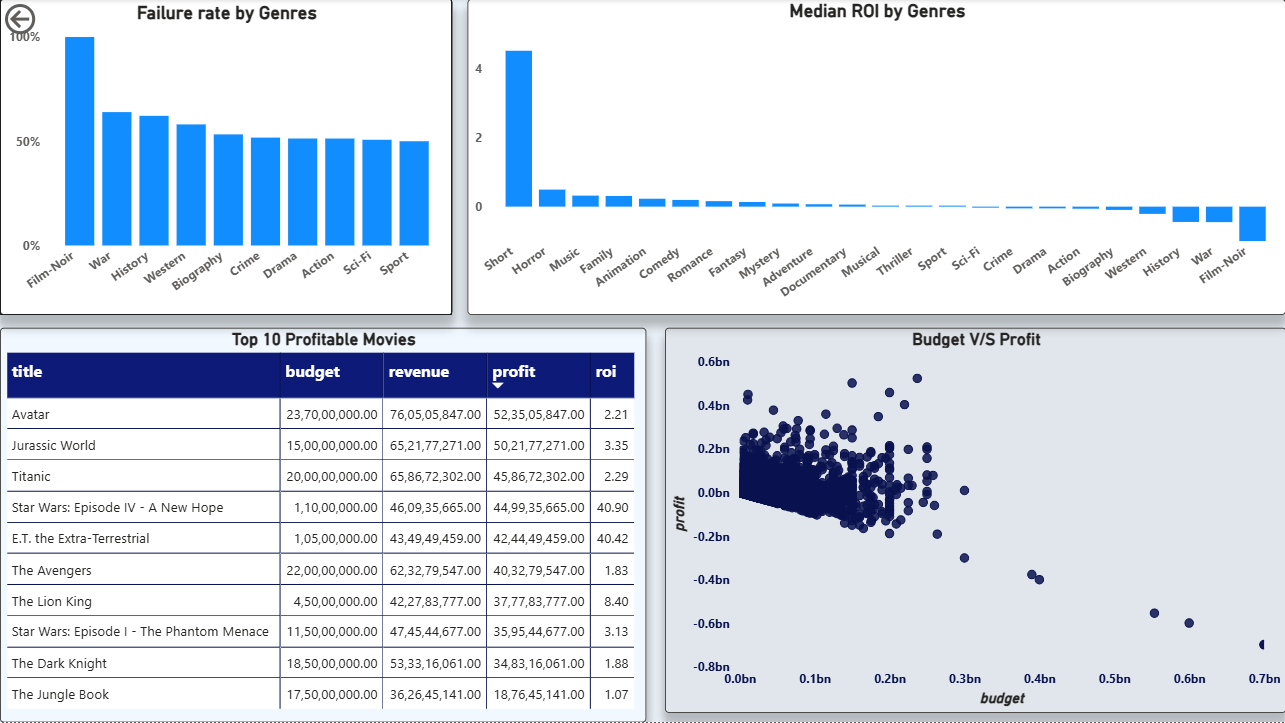

The page's visual inventory and layout, read from the dashboard file:
{"tool":"powerbi","page":{"name":"profitability analysis","canvas":[1280,720],"ordinal":1},"visuals":[{"type":"columnChart","title":"Failure rate by Genres","fields":{"Category":["genres.genre"],"Y":["movies.failure_rate"]},"box":[0,0,450,314.3],"z":1000},{"type":"columnChart","title":"Median ROI by Genres","fields":{"Category":["genres.genre"],"Y":["Median(movies.roi)"]},"box":[465.7,0,814.3,314.3],"z":2000},{"type":"scatterChart","title":"Budget V/S  Profit","fields":{"X":["movies.budget"],"Y":["movies.profit"]},"box":[661.4,327.1,618.6,382.9],"z":3000},{"type":"tableEx","title":"Top 10 Profitable Movies","fields":{"Values":["movies.title","movies.budget","movies.revenue","movies.profit","movies.roi"]},"box":[0,327.1,642.9,392.9],"z":4000},{"type":"actionButton","box":[0,0,100,40],"z":5000}]}

Visuals, with their boxes in screenshot pixels (x1, y1, x2, y2), scaled from the page's 1280x720 canvas onto the 1285x723 screenshot:
"Failure rate by Genres" columnChart: BBox(0, 0, 452, 316)
"Median ROI by Genres" columnChart: BBox(468, 0, 1284, 316)
"Budget V/S  Profit" scatterChart: BBox(664, 328, 1284, 713)
"Top 10 Profitable Movies" tableEx: BBox(0, 328, 645, 722)
actionButton: BBox(0, 0, 100, 40)
